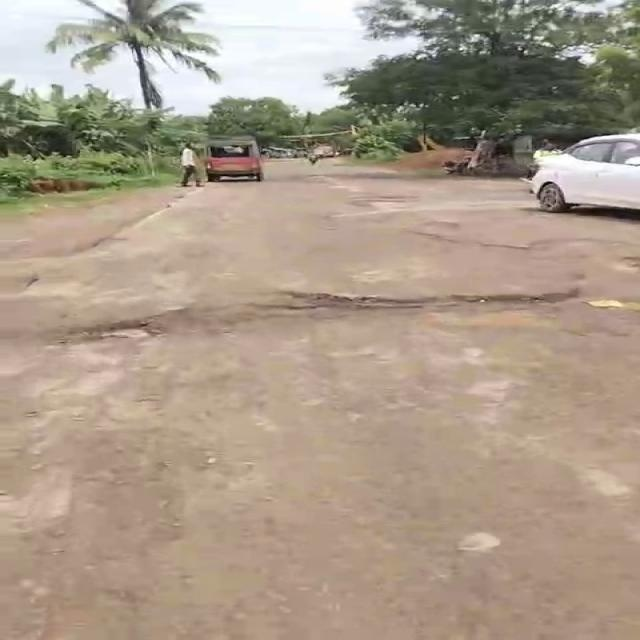pothole: (273, 288, 584, 311), (465, 308, 554, 334), (68, 322, 164, 343), (512, 241, 622, 257), (348, 194, 421, 212), (413, 220, 459, 233)
